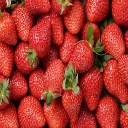strawberry: (98, 52, 128, 104), (27, 17, 52, 63), (43, 58, 67, 100), (17, 94, 45, 128), (61, 78, 82, 122), (0, 9, 18, 46), (86, 1, 111, 22), (0, 75, 12, 112)
